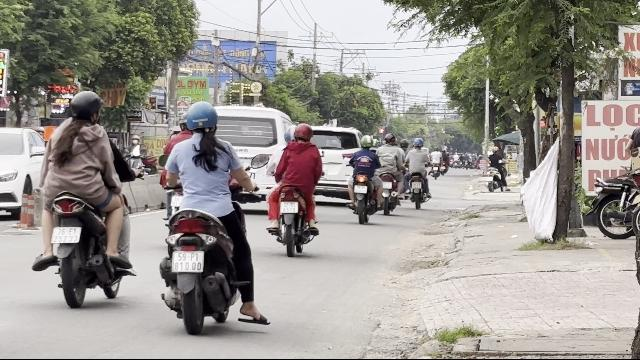helmet: (182, 100, 220, 136), (68, 90, 102, 122), (292, 122, 312, 142)
licenseplate: (173, 252, 203, 272), (51, 228, 81, 243), (280, 201, 298, 213)
motorcyclist: (154, 98, 264, 334), (30, 86, 136, 308), (264, 122, 324, 254)
